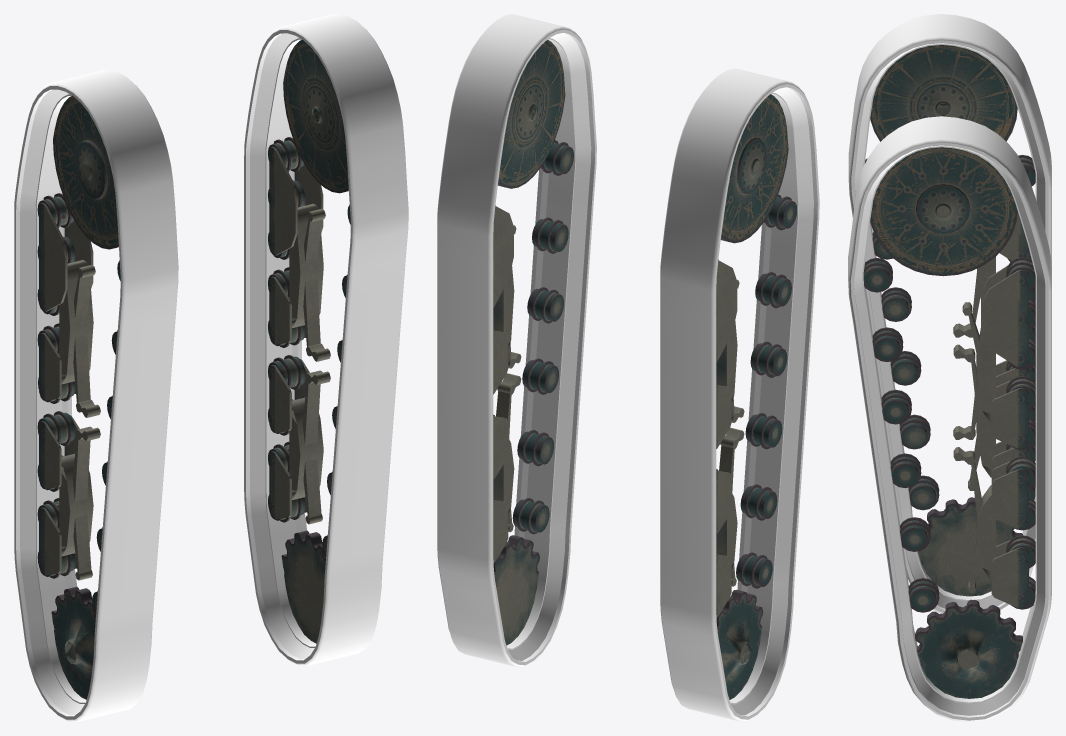
File: Chassis.glb
3 renders of one model, left to right at view 1: azimuth 30°, elevation 25°; view 2: azimuth 150°, elevation 25°; view 3: azimuth 270°, elevation 25°, orthographic. The views are drawn at different scales.
Visible parts, largest first — view 1: set_0_group_0, set_1_group_0, set_3_group_0, set_5_group_0, set_4_group_0, set_2_group_0; view 2: set_0_group_0, set_1_group_0, set_3_group_0, set_5_group_0, set_2_group_0, set_4_group_0; view 3: set_5_group_0, set_0_group_0, set_3_group_0, set_1_group_0, set_4_group_0, set_2_group_0.
Part boxes in pixels (x1=…): set_0_group_0: x1=244, y1=14, x2=408, y2=665; set_1_group_0: x1=14, y1=70, x2=178, y2=721; set_3_group_0: x1=37, y1=95, x2=120, y2=699; set_5_group_0: x1=268, y1=39, x2=350, y2=643; set_4_group_0: x1=269, y1=146, x2=313, y2=344; set_2_group_0: x1=39, y1=203, x2=83, y2=400; set_0_group_0: x1=437, y1=14, x2=596, y2=667; set_1_group_0: x1=660, y1=68, x2=819, y2=721; set_3_group_0: x1=716, y1=94, x2=796, y2=699; set_5_group_0: x1=493, y1=39, x2=573, y2=645; set_2_group_0: x1=716, y1=260, x2=736, y2=448; set_4_group_0: x1=493, y1=206, x2=513, y2=394; set_5_group_0: x1=863, y1=147, x2=1035, y2=698; set_0_group_0: x1=848, y1=116, x2=1051, y2=721; set_3_group_0: x1=865, y1=45, x2=1035, y2=596; set_1_group_0: x1=848, y1=14, x2=1051, y2=613; set_4_group_0: x1=981, y1=265, x2=1028, y2=449; set_2_group_0: x1=999, y1=168, x2=1028, y2=260.
Size of the model in its own units: 1.74 by 3.71 by 1.17.
6 materials, 4 textured.
